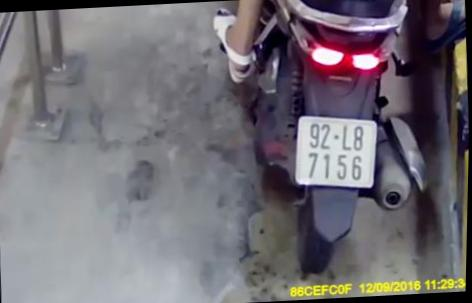LP: (293, 111, 382, 193)
